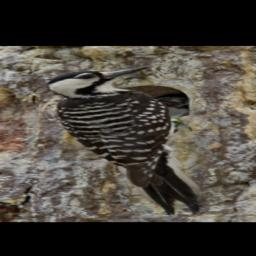Woodpecker: (45, 66, 207, 216)
